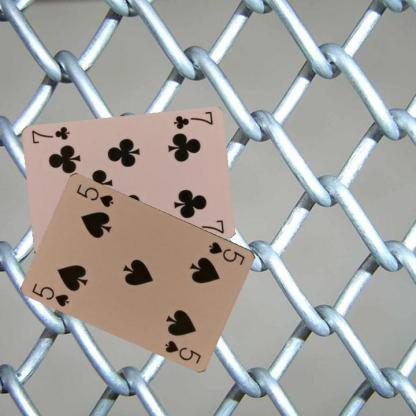5s: (29, 280, 71, 308), (206, 239, 247, 266)
7c: (171, 108, 214, 130)
